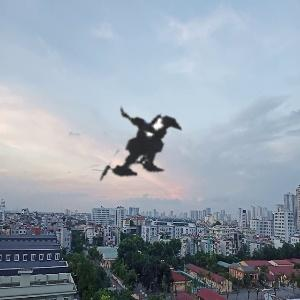drone: (16, 3, 286, 273)
